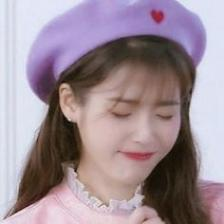purple: (27, 0, 207, 104)
